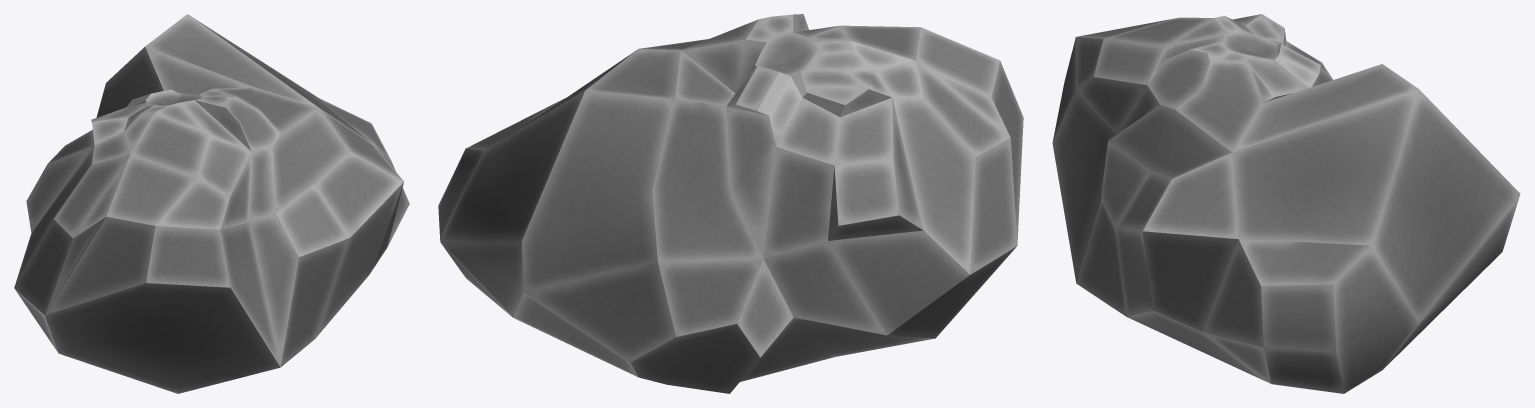
File: Enviromental Rock.FBX
The picture shows the model from 3 angles, left to right: view 1: azimuth 30°, elevation 25°; view 2: azimuth 150°, elevation 25°; view 3: azimuth 270°, elevation 25°; orthographic projection. The views are drawn at different scales.
Parts seen in each view (by area): view 1: Plane001; view 2: Plane001; view 3: Plane001.
Boxes of the visible parts, x1=… form: Plane001: x1=14, y1=14, x2=409, y2=393; Plane001: x1=438, y1=14, x2=1023, y2=393; Plane001: x1=1052, y1=14, x2=1520, y2=393.
Size of the model in its own units: 203 by 130 by 184.
